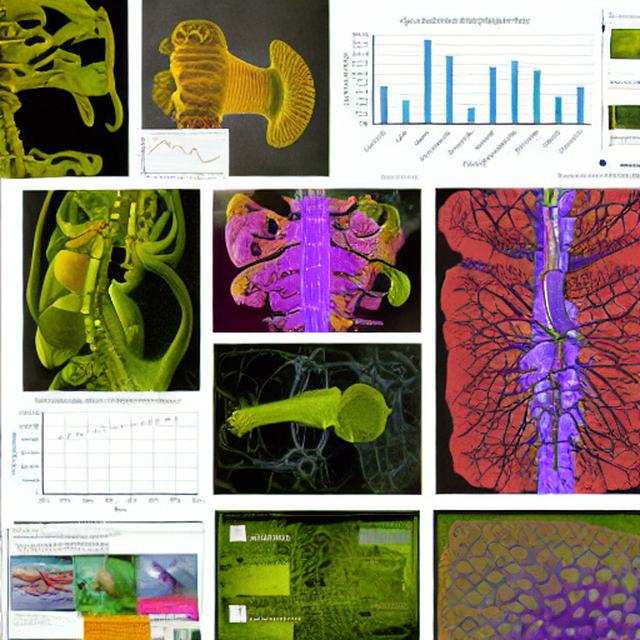Graph: (335, 14, 597, 169), (1, 395, 208, 517), (134, 130, 224, 183)
